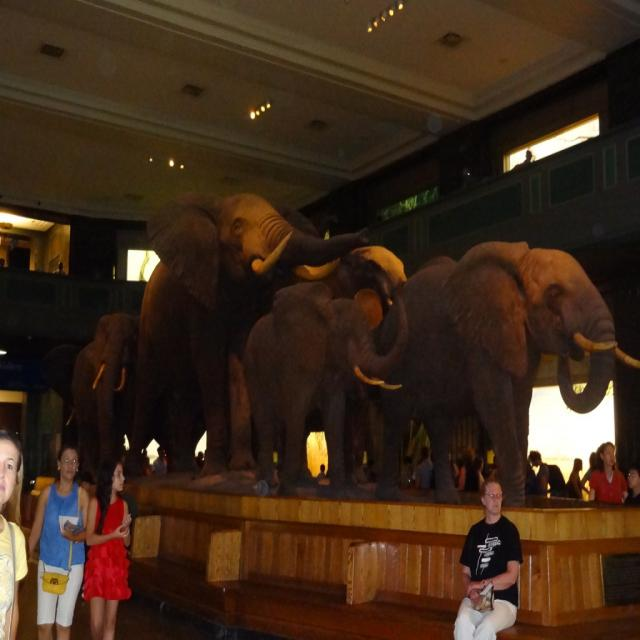elephant: (324, 235, 630, 514), (134, 187, 337, 476), (251, 243, 416, 495), (69, 309, 140, 473)
